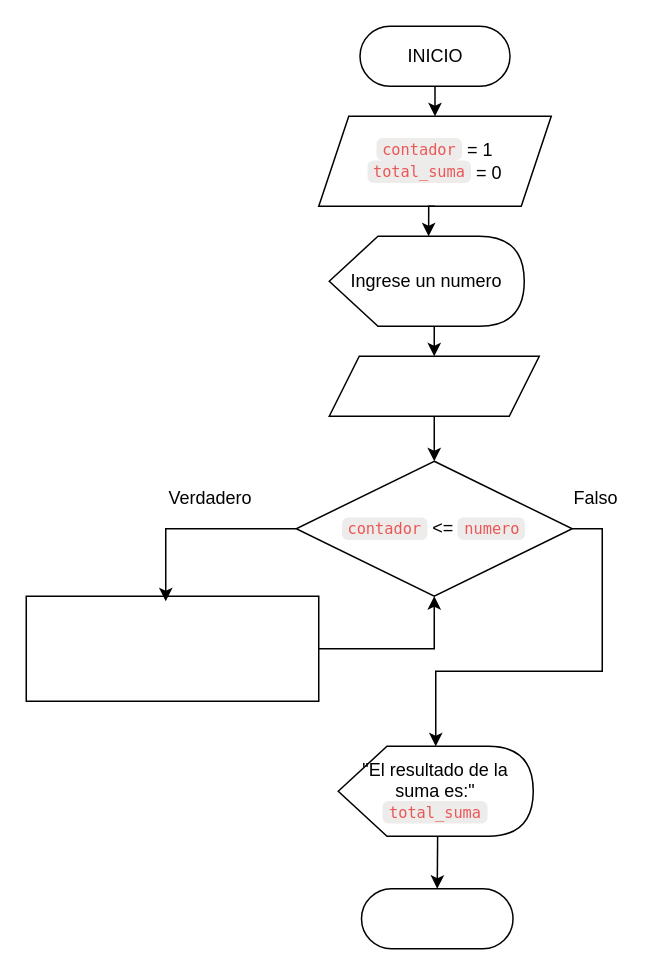
Some shapes in this 668 by 975 pixel diagram are drawn without their labels. The centre of each missing label's shape, as x and y in pixels:
FIN: [436,918]
numero: [433,385]
total_suma = total_suma + contador contador = contador + 1: [172,648]
